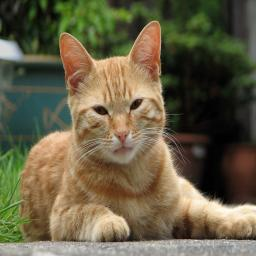catnose: (114, 128, 130, 144)
